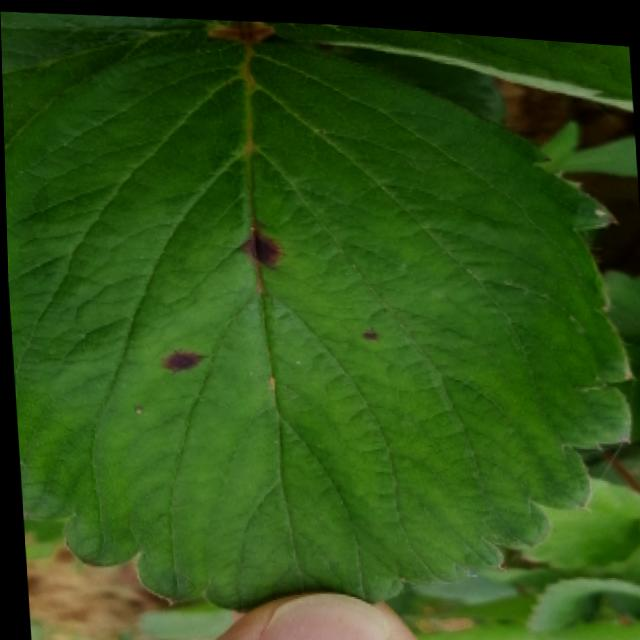Leaf Spot: (3, 34, 631, 613)
